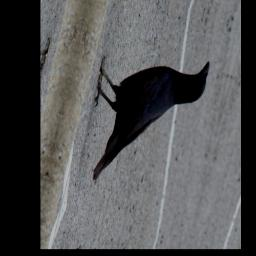Crow: (74, 27, 212, 209)
